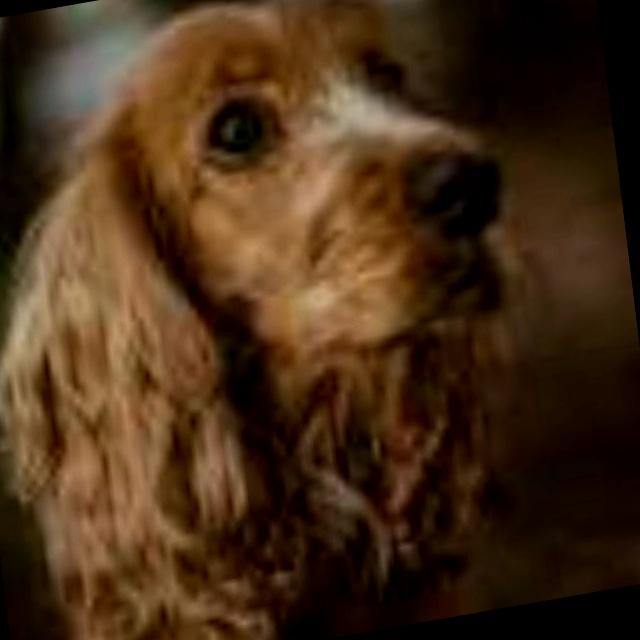dog: (0, 0, 586, 499)
